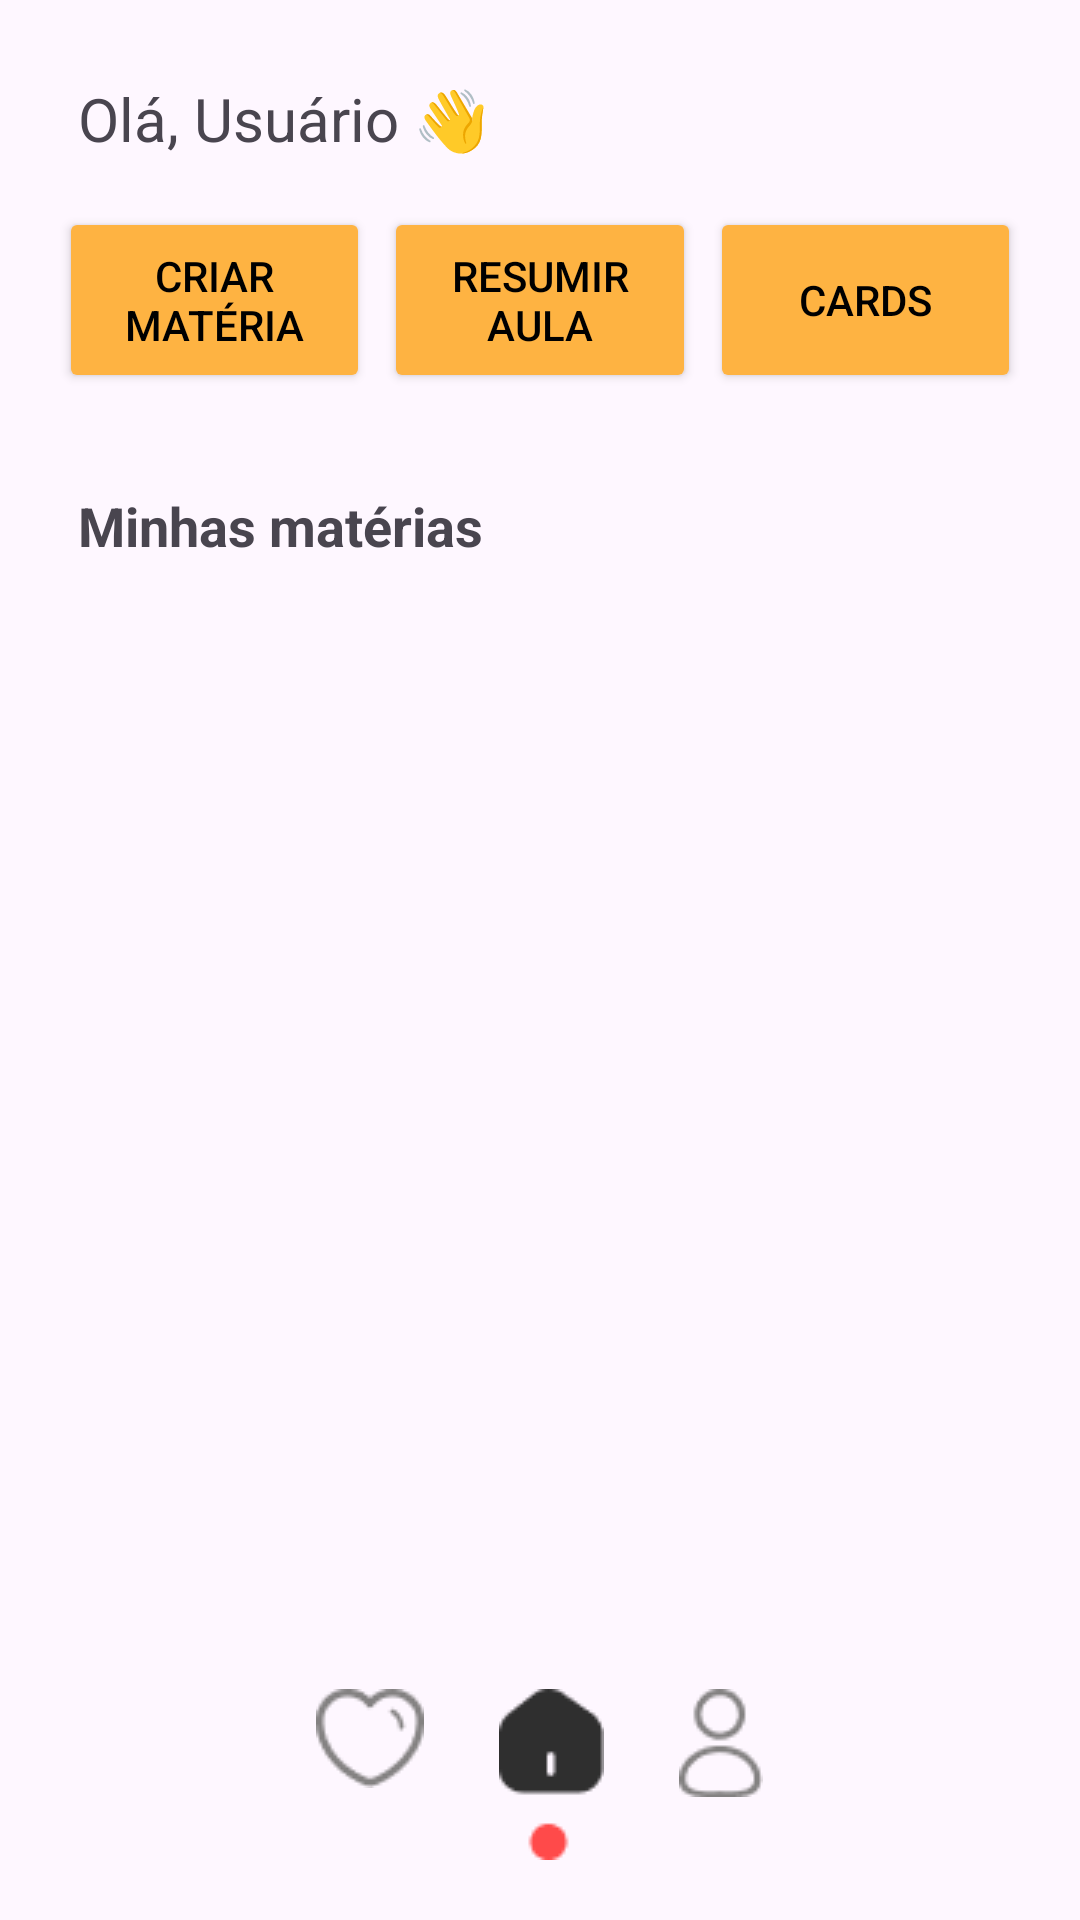

Point at icon controls on the screen. Image size 1080 × 1920, points as point (x, y).
heart: point (370, 1738)
home: point (551, 1774)
user: point (721, 1743)
